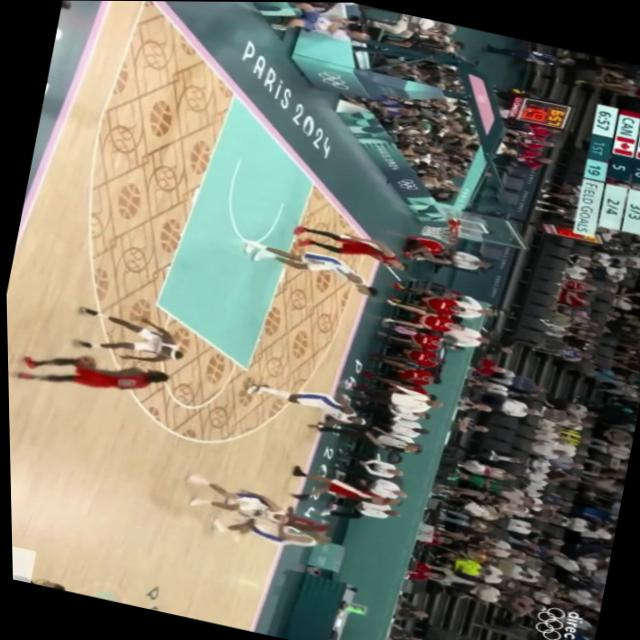ball_handler: (6, 337, 171, 411)
